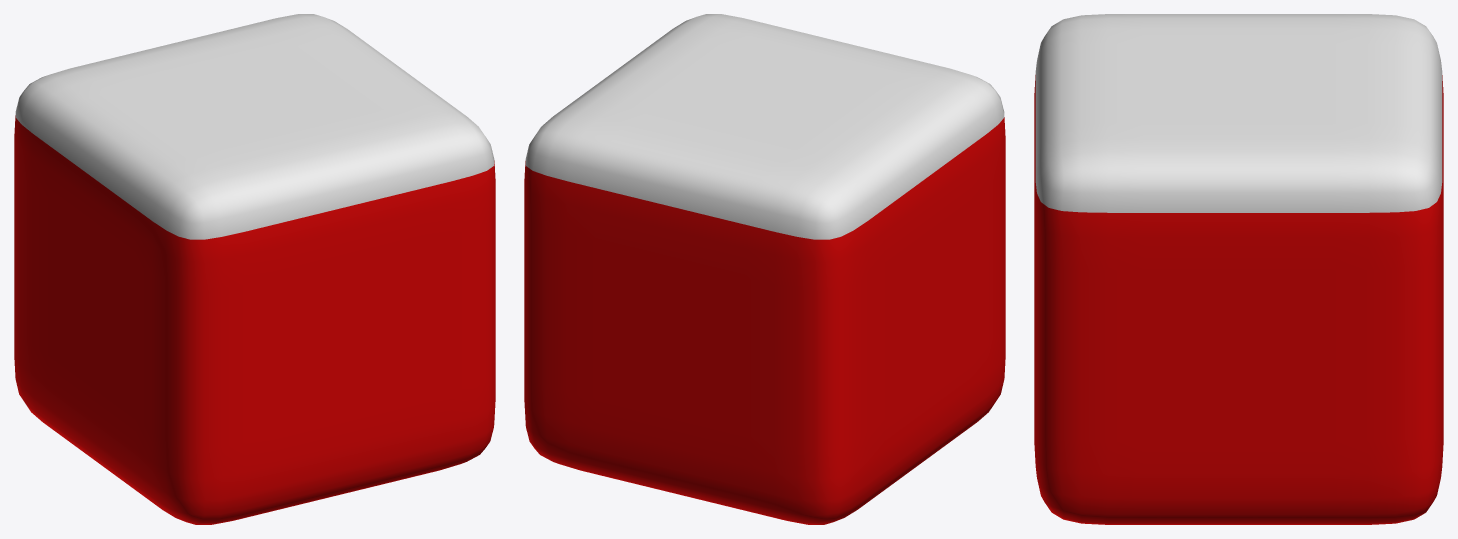
File: Grid_Grass.fbx
The picture shows the model from 3 angles, left to right: view 1: azimuth 30°, elevation 25°; view 2: azimuth 150°, elevation 25°; view 3: azimuth 270°, elevation 25°; orthographic projection. The views are drawn at different scales.
Visible parts, largest first — view 1: landGrid_high; view 2: landGrid_high; view 3: landGrid_high.
Boxes of the visible parts, box(x1,y1,x2,y2) form: landGrid_high: box(14, 14, 495, 524); landGrid_high: box(524, 14, 1005, 524); landGrid_high: box(1034, 14, 1443, 524).
Size of the model in its own units: 1.09 by 1.09 by 1.09.
